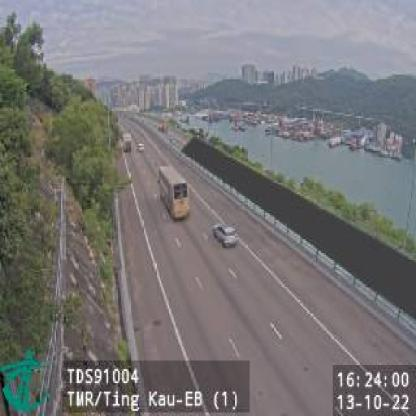Bus: (158, 164, 192, 221)
Car: (212, 223, 240, 249)
